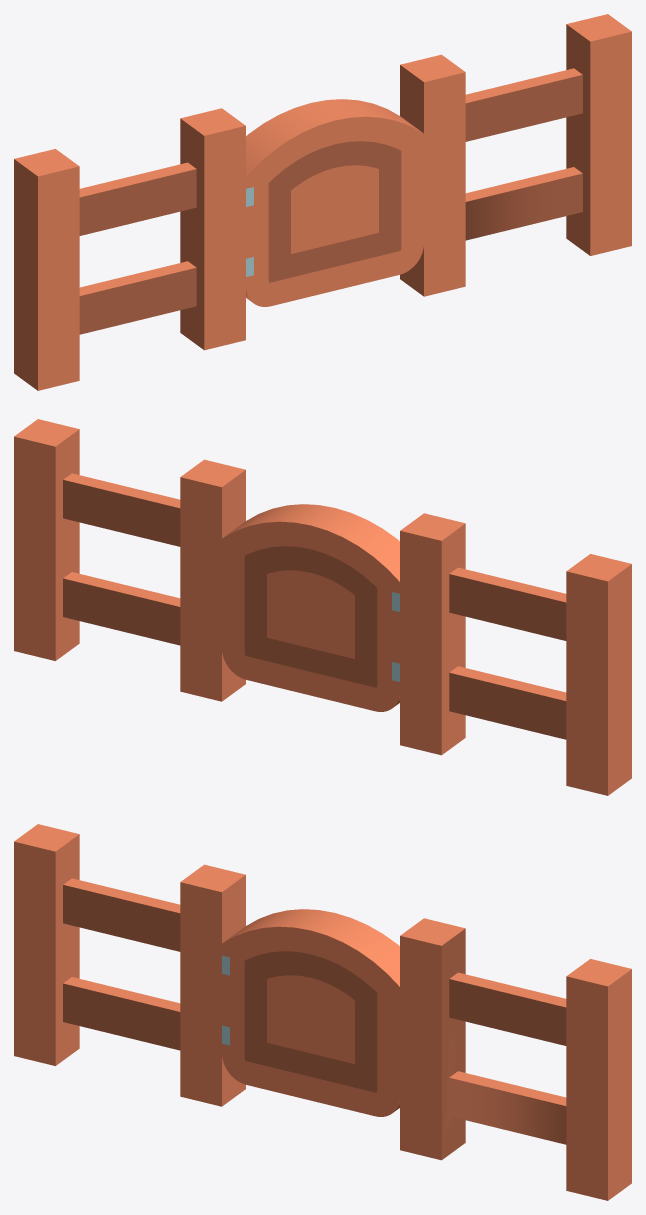
Rendered from fence_gate.dae.
3 renders of one model, top to bottom at view 1: azimuth 30°, elevation 25°; view 2: azimuth 150°, elevation 25°; view 3: azimuth 330°, elevation 25°, orthographic.
Parts seen in each view (by area): view 1: fence_gate, gate; view 2: fence_gate, gate; view 3: fence_gate, gate.
Boxes of the visible parts, x1=… form: fence_gate: x1=14, y1=14, x2=631, y2=390; gate: x1=246, y1=99, x2=423, y2=306; fence_gate: x1=14, y1=419, x2=631, y2=795; gate: x1=222, y1=504, x2=399, y2=711; fence_gate: x1=14, y1=824, x2=631, y2=1200; gate: x1=222, y1=909, x2=399, y2=1116.
Size of the model in its own units: 1 by 0.345 by 0.07.
